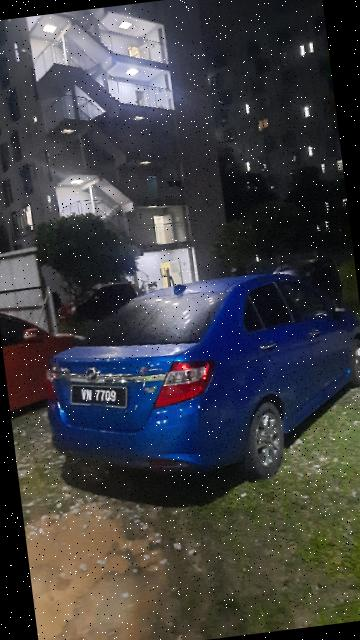License_Plate: (63, 375, 135, 417)
car: (27, 246, 360, 500)
